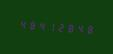eight: (27, 17, 36, 32), (67, 20, 76, 35), (87, 22, 96, 36)
four: (37, 18, 46, 33), (77, 21, 86, 36), (17, 17, 26, 31)
one: (47, 19, 56, 33)
two: (57, 20, 66, 34)
